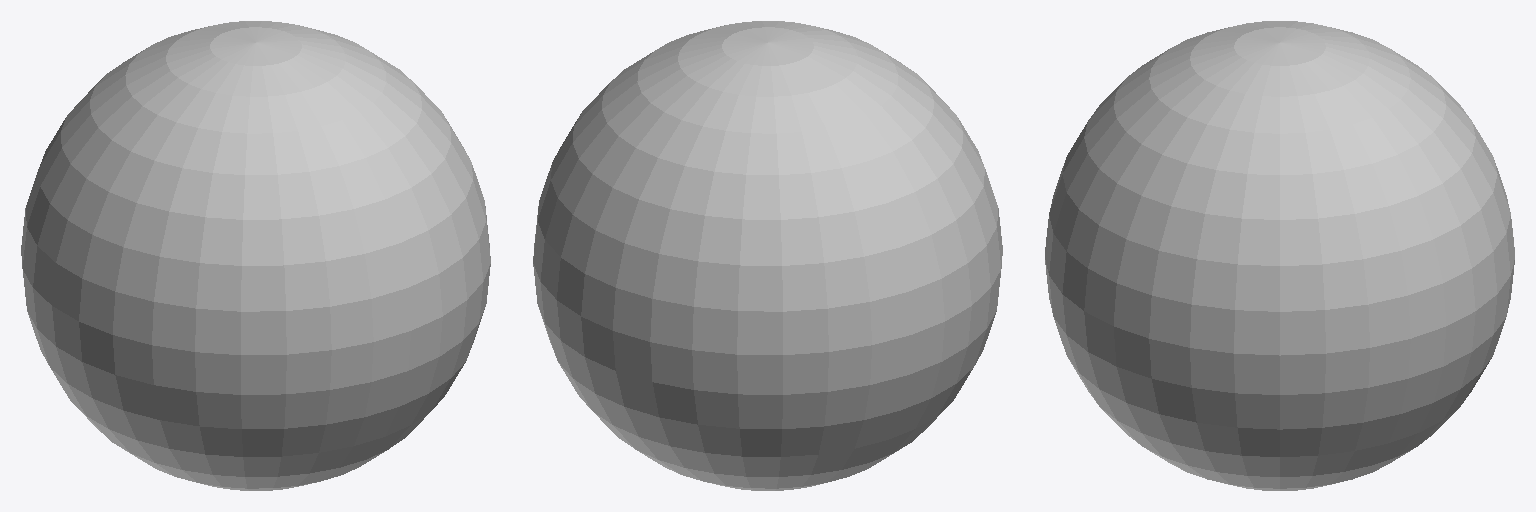
File: esfera2.obj
3 views of the same model, side by side, from view 1: azimuth 30°, elevation 25°; view 2: azimuth 150°, elevation 25°; view 3: azimuth 270°, elevation 25° (orthographic).
Parts seen in each view (by area): view 1: Sphere_Sphere_Material; view 2: Sphere_Sphere_Material; view 3: Sphere_Sphere_Material.
Part boxes in pixels (bbox=[...]): Sphere_Sphere_Material: bbox=[21, 21, 490, 490]; Sphere_Sphere_Material: bbox=[533, 21, 1002, 490]; Sphere_Sphere_Material: bbox=[1045, 21, 1514, 490].
Bounding box in the file's own units: 14.3 × 14.3 × 14.3.